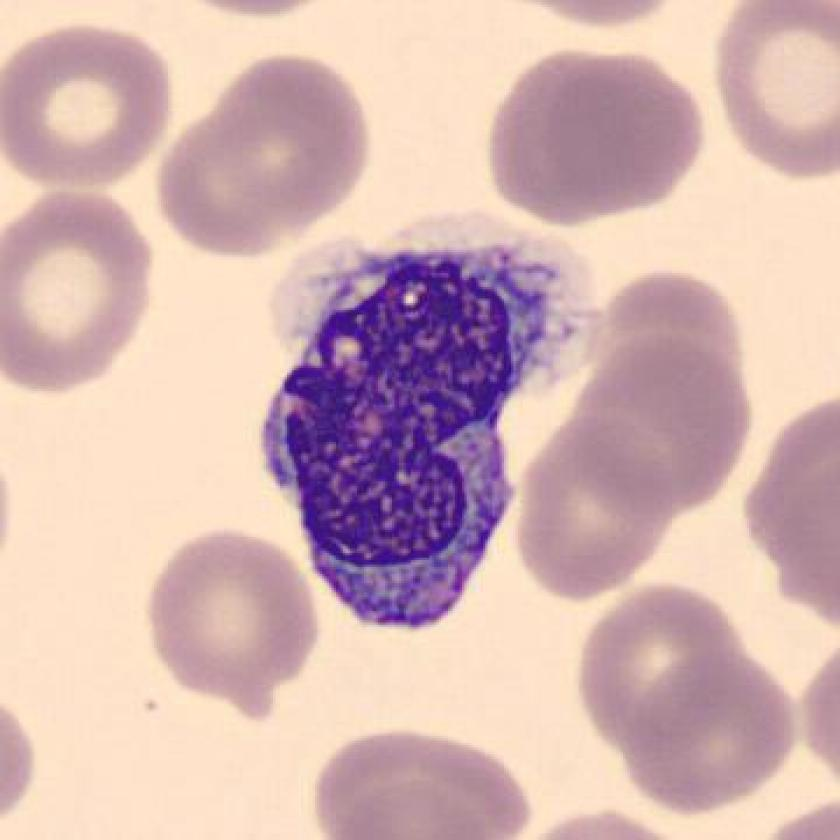monocyte: (239, 193, 615, 651)
